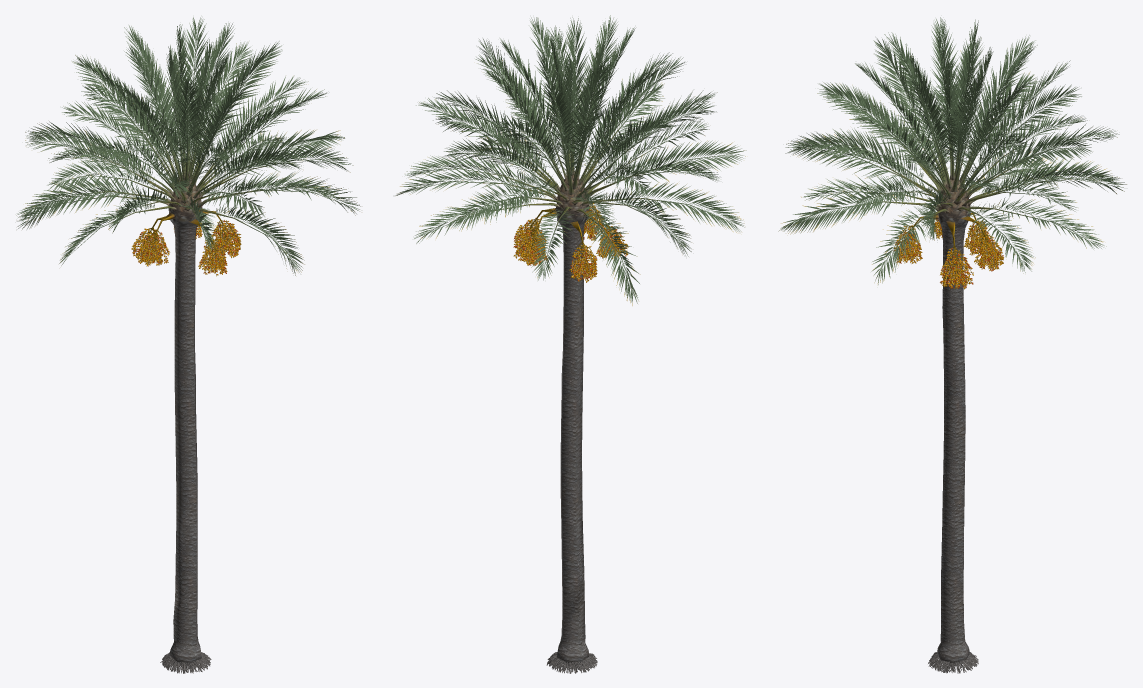
Rendered from Phoenix dactylifera HD_Urban mat 75_LOD3.fbx.
The picture shows the model from 3 angles, left to right: view 1: azimuth 30°, elevation 25°; view 2: azimuth 150°, elevation 25°; view 3: azimuth 270°, elevation 25°; orthographic projection.
Visible parts, largest first — view 1: Phoenix_dactylifera_HD; view 2: Phoenix_dactylifera_HD; view 3: Phoenix_dactylifera_HD.
Part boxes in pixels (x1=…): Phoenix_dactylifera_HD: x1=16, y1=17, x2=360, y2=673; Phoenix_dactylifera_HD: x1=395, y1=15, x2=746, y2=673; Phoenix_dactylifera_HD: x1=778, y1=17, x2=1126, y2=673.
Bounding box in the file's own units: 6.99 × 13.93 × 7.08.
10 materials, 10 textured.
